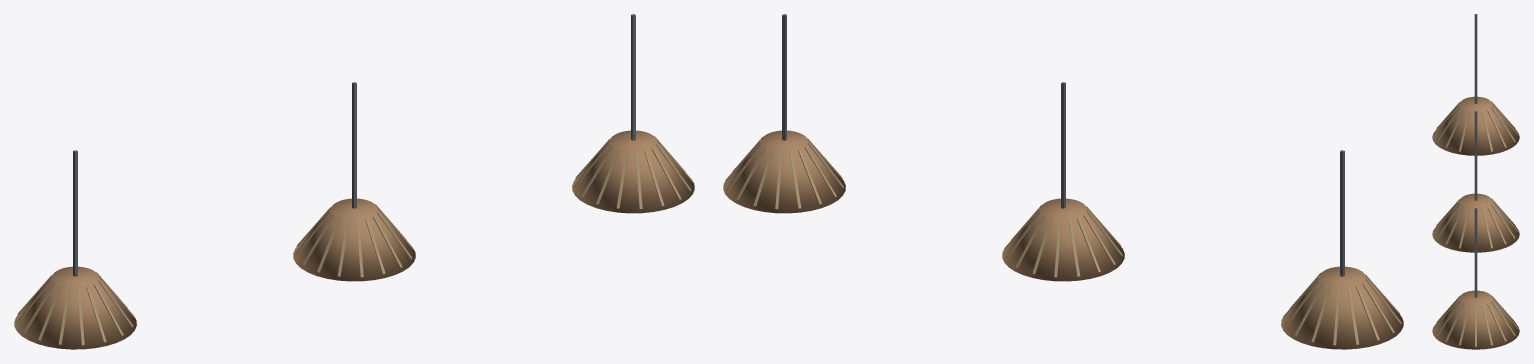
Rendered from yokocho-pendant-ceiling.glb.
The picture shows the model from 3 angles, left to right: view 1: azimuth 30°, elevation 25°; view 2: azimuth 150°, elevation 25°; view 3: azimuth 270°, elevation 25°; orthographic projection. The views are drawn at different scales.
Visible parts, largest first — view 1: Shops/S06/Personality/PendantCeiling__Night_Walnut, Shops/S06/Personality/PendantCeiling__Bronze, Shops/S06/Personality/PendantCeiling__Iron; view 2: Shops/S06/Personality/PendantCeiling__Night_Walnut, Shops/S06/Personality/PendantCeiling__Bronze, Shops/S06/Personality/PendantCeiling__Iron; view 3: Shops/S06/Personality/PendantCeiling__Night_Walnut, Shops/S06/Personality/PendantCeiling__Bronze, Shops/S06/Personality/PendantCeiling__Iron.
Boxes of the visible parts, x1,y1,x2,y2 form: Shops/S06/Personality/PendantCeiling__Night_Walnut: (14,130,694,349); Shops/S06/Personality/PendantCeiling__Bronze: (16,135,692,345); Shops/S06/Personality/PendantCeiling__Iron: (73,14,635,276); Shops/S06/Personality/PendantCeiling__Night_Walnut: (723,130,1403,349); Shops/S06/Personality/PendantCeiling__Bronze: (725,135,1401,345); Shops/S06/Personality/PendantCeiling__Iron: (782,14,1344,276); Shops/S06/Personality/PendantCeiling__Night_Walnut: (1432,96,1519,349); Shops/S06/Personality/PendantCeiling__Bronze: (1433,101,1518,346); Shops/S06/Personality/PendantCeiling__Iron: (1474,14,1477,297).
Bounding box in the file's own units: 2.62 × 0.661 × 0.42.
